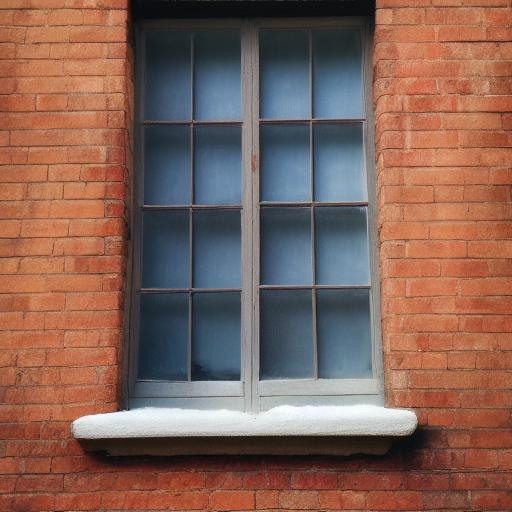Window: (72, 0, 419, 459)
